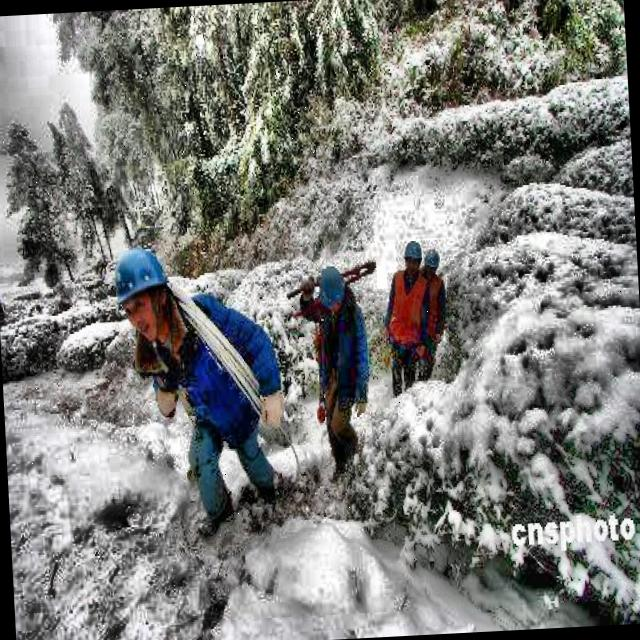helmet: (107, 240, 178, 348), (314, 260, 352, 321), (402, 238, 426, 280), (422, 242, 443, 282)
